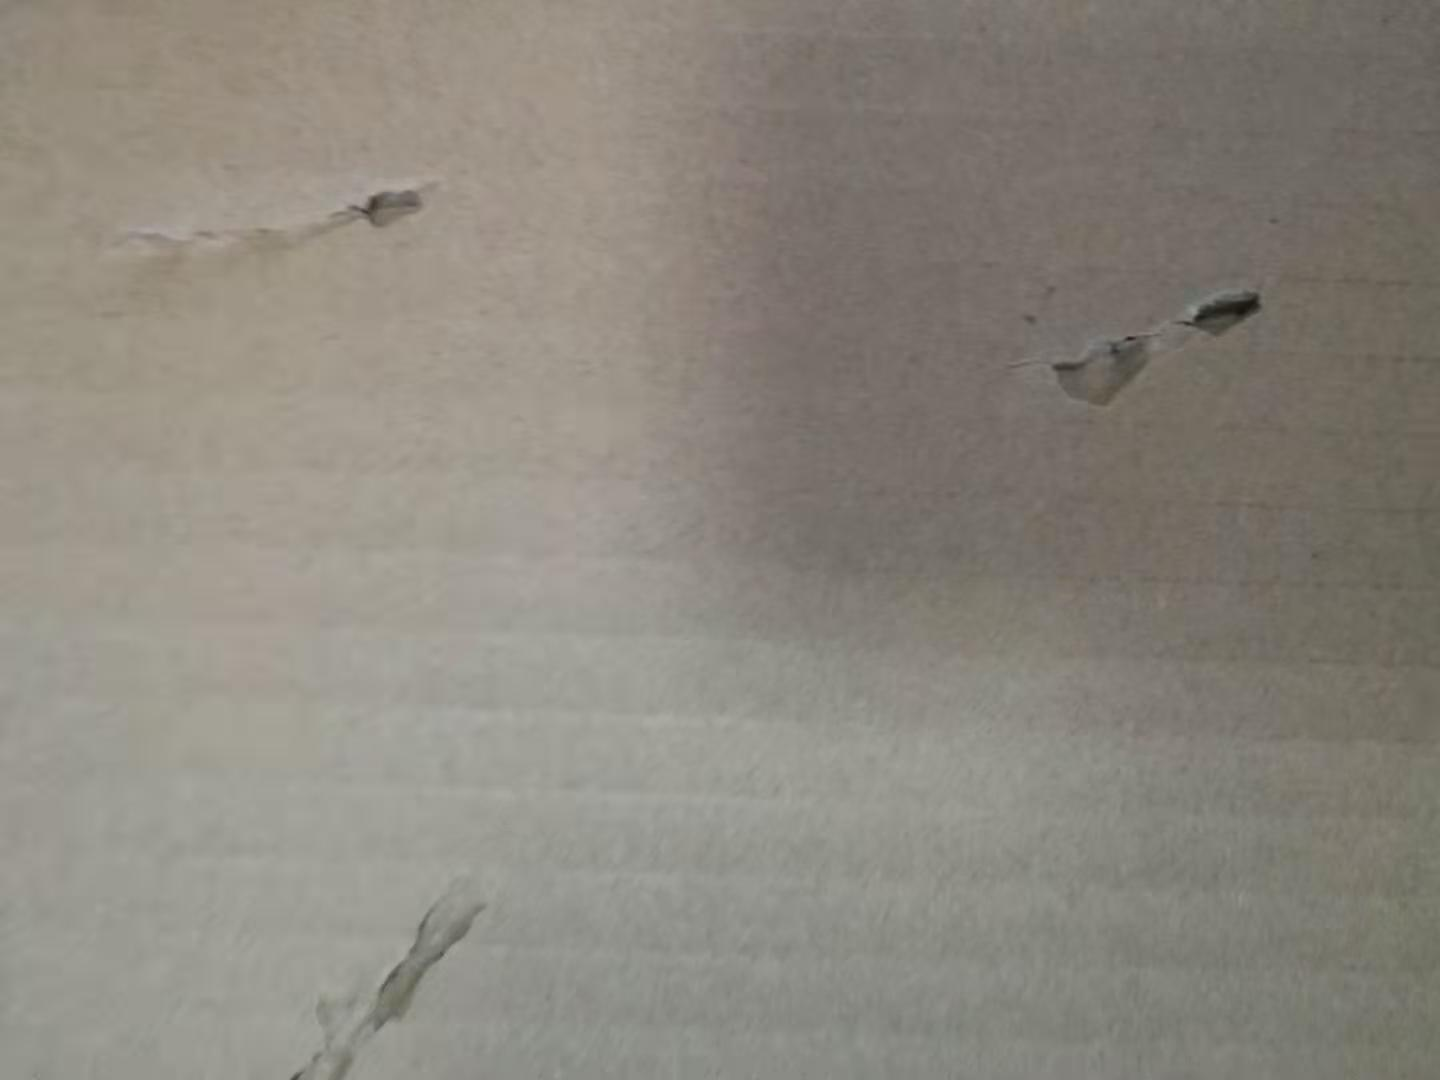defect: (54, 136, 468, 331), (255, 850, 524, 1080), (990, 248, 1296, 442)
